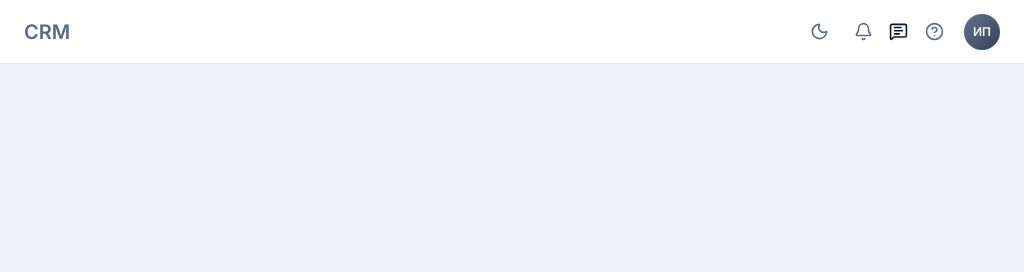
Scenario: Topbar › открывает справку
Click the button titled "Помощь". click: (934, 32)
box: [916,14,952,50]
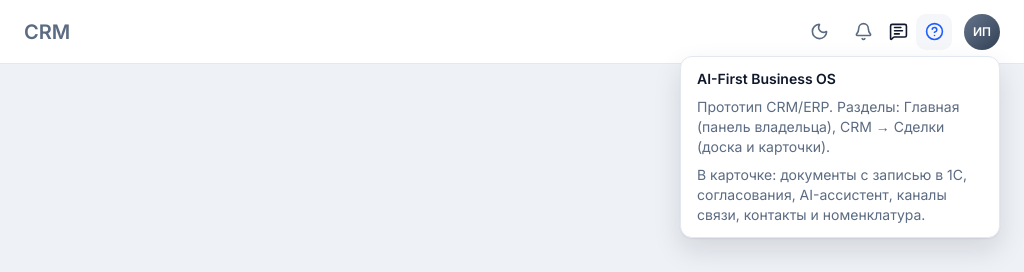
Result: the text "AI-First Business OS" is shown at [697,70,836,87]
